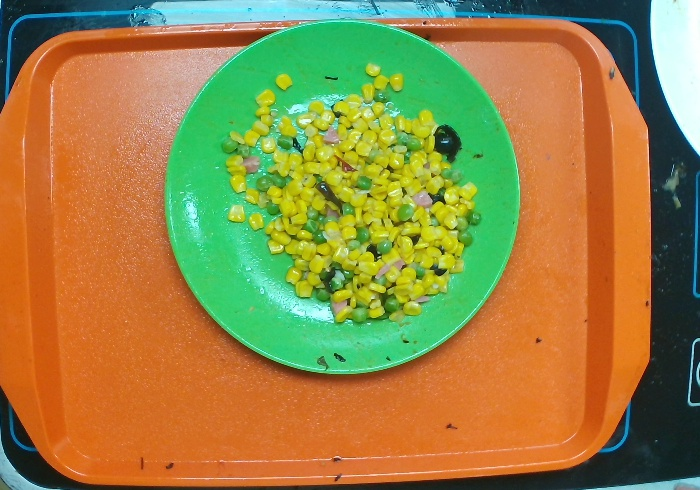HZYJPL-Lv_Se_Yuan_Pan: (157, 14, 526, 381)
